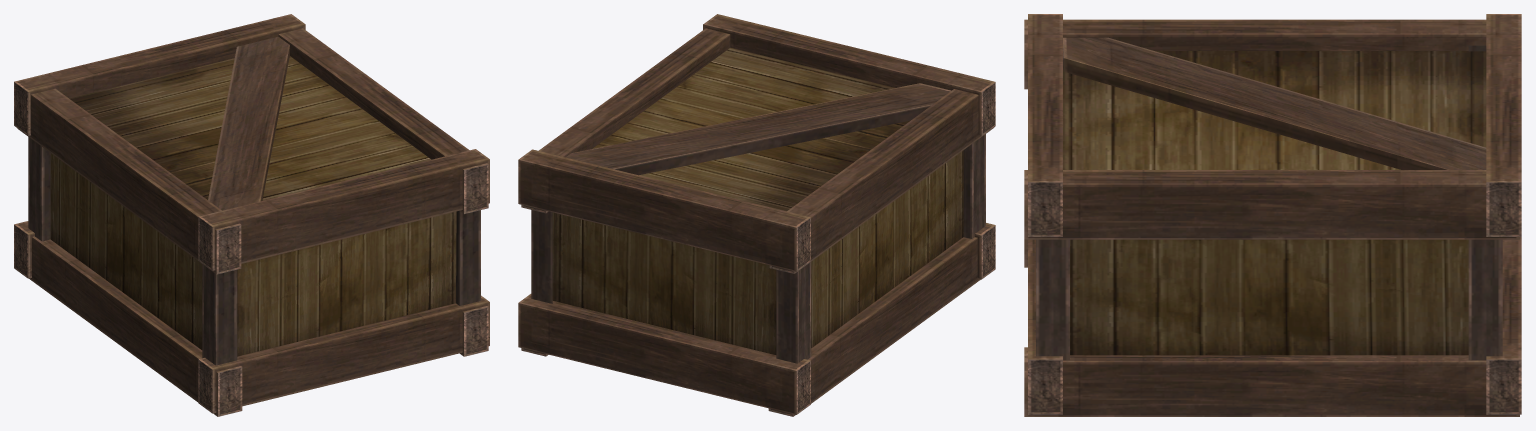
Rendered from cart_shopbox00.fbx.
The picture shows the model from 3 angles, left to right: view 1: azimuth 30°, elevation 25°; view 2: azimuth 150°, elevation 25°; view 3: azimuth 270°, elevation 25°; orthographic projection. The views are drawn at different scales.
Visible parts, largest first — view 1: cart_shopbox00; view 2: cart_shopbox00; view 3: cart_shopbox00.
Part boxes in pixels (x1=…): cart_shopbox00: x1=14, y1=14, x2=489, y2=416; cart_shopbox00: x1=518, y1=14, x2=995, y2=416; cart_shopbox00: x1=1024, y1=14, x2=1521, y2=416.
Bounding box in the file's own units: 1.49 × 0.9772 × 1.86.
